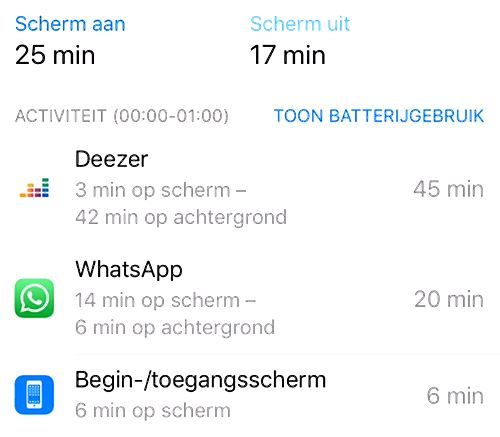activity: (9, 102, 244, 135)
app: (9, 144, 497, 245), (4, 259, 492, 360)
